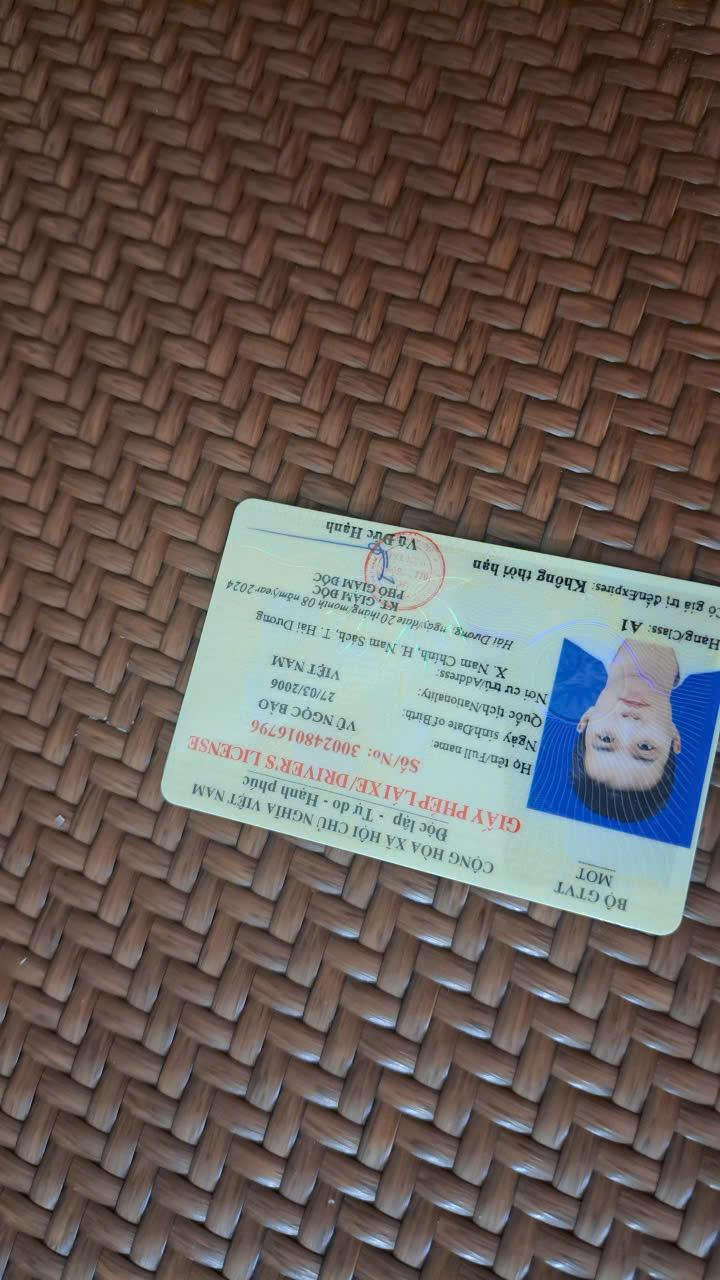gplx: (150, 483, 720, 948)
